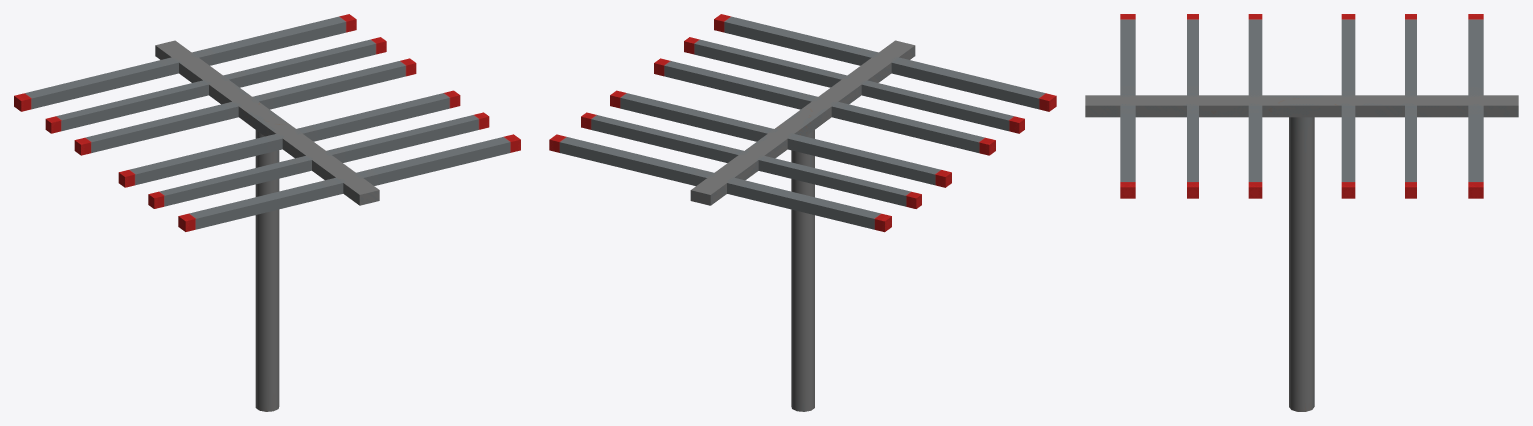
The model's file is antenna.fbx.
3 renders of one model, left to right at view 1: azimuth 30°, elevation 25°; view 2: azimuth 150°, elevation 25°; view 3: azimuth 270°, elevation 25°, orthographic. The views are drawn at different scales.
Visible parts, largest first — view 1: pCube3, pCylinder1; view 2: pCube3, pCylinder1; view 3: pCube3, pCylinder1.
Part boxes in pixels (bbox=[...]): pCube3: bbox=[14, 14, 520, 231]; pCylinder1: bbox=[255, 130, 279, 411]; pCube3: bbox=[549, 14, 1056, 232]; pCylinder1: bbox=[791, 130, 814, 411]; pCube3: bbox=[1085, 14, 1518, 198]; pCylinder1: bbox=[1289, 117, 1314, 411].
Bounding box in the file's own units: 3.78 × 3.12 × 4.
2 materials, 2 textured.
